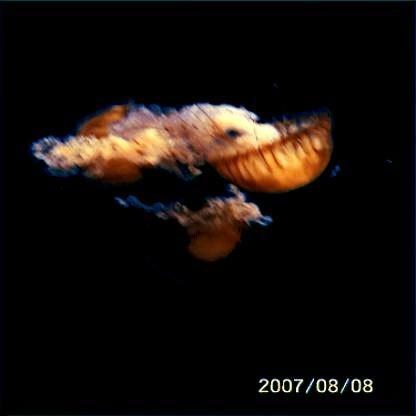Dressed: (161, 106, 333, 194), (29, 99, 199, 185), (138, 195, 266, 285)
